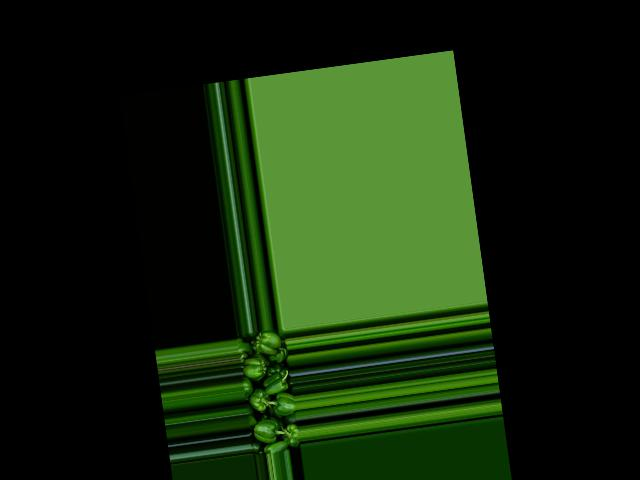bell_pepper: (236, 327, 299, 454)
